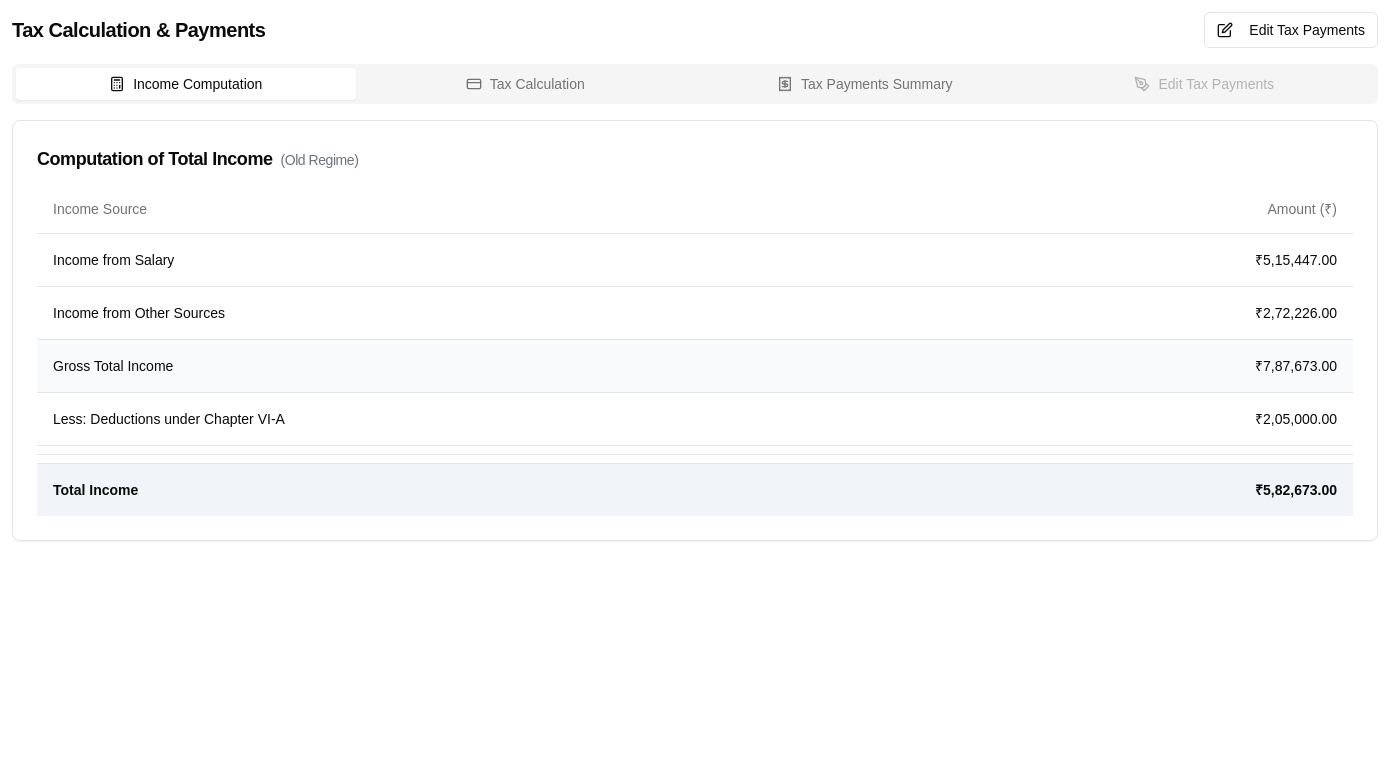
Test: TaxCalculationPaymentsStep › renders Tax Payments Summary tab correctly after clicking
// Click the "Tax Payments Summary" tab
Click the tab "Tax Payments Summary": {"x": 865, "y": 84} x1=695 y1=68 x2=1034 y2=100
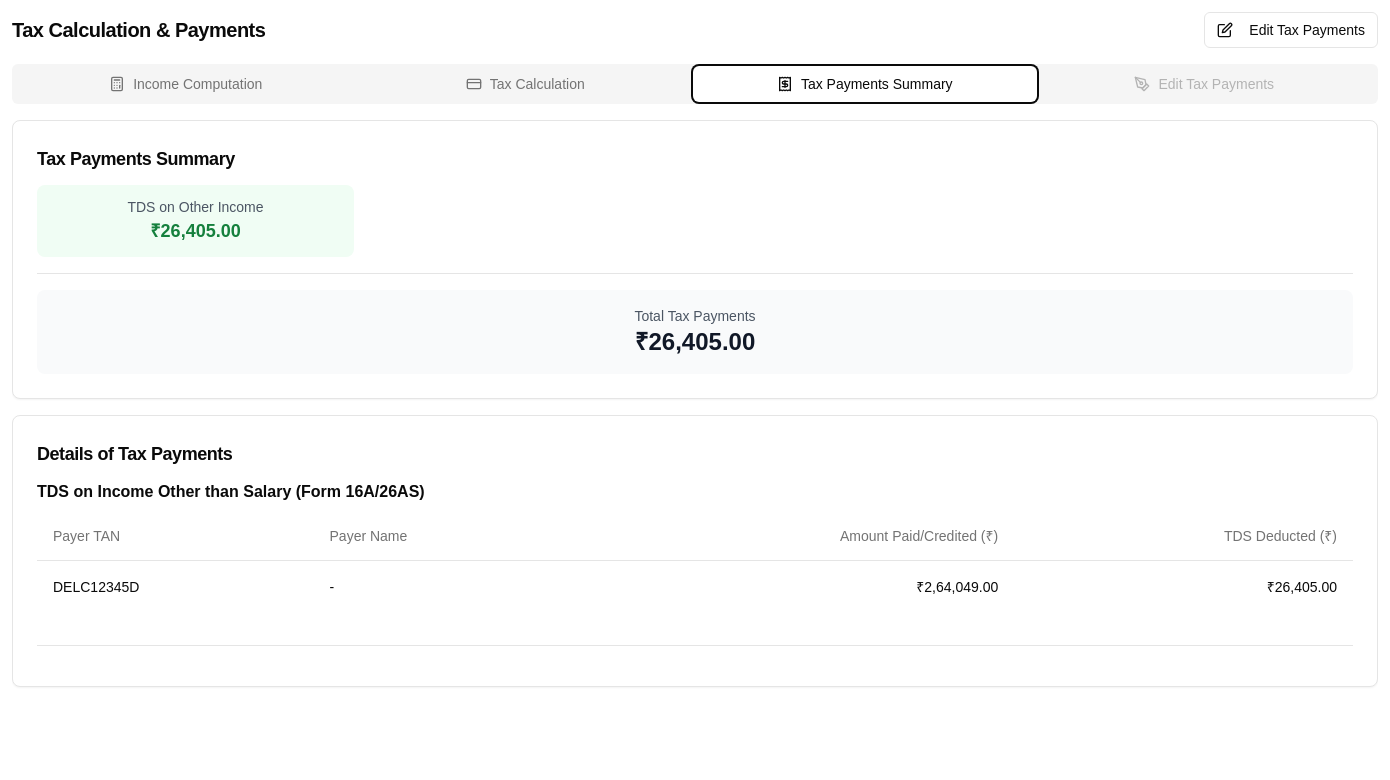
Expected: the text "Tax Payments Summary" is shown, x1=37 y1=149 x2=235 y2=169
Expected: the text "₹26,405.00" below "TDS on Other Income" is shown, x1=150 y1=221 x2=241 y2=241
Expected: the text "₹26,405.00" below "Total Tax Payments" is shown, x1=635 y1=328 x2=755 y2=355
